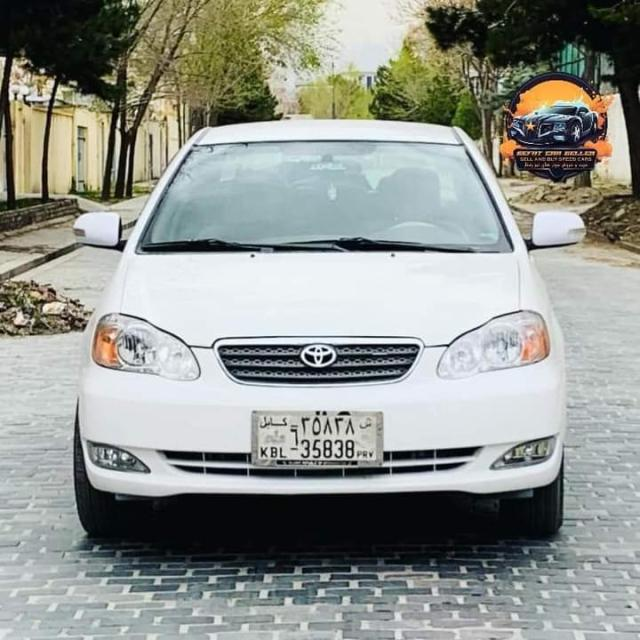Plate: (251, 412, 383, 466)
